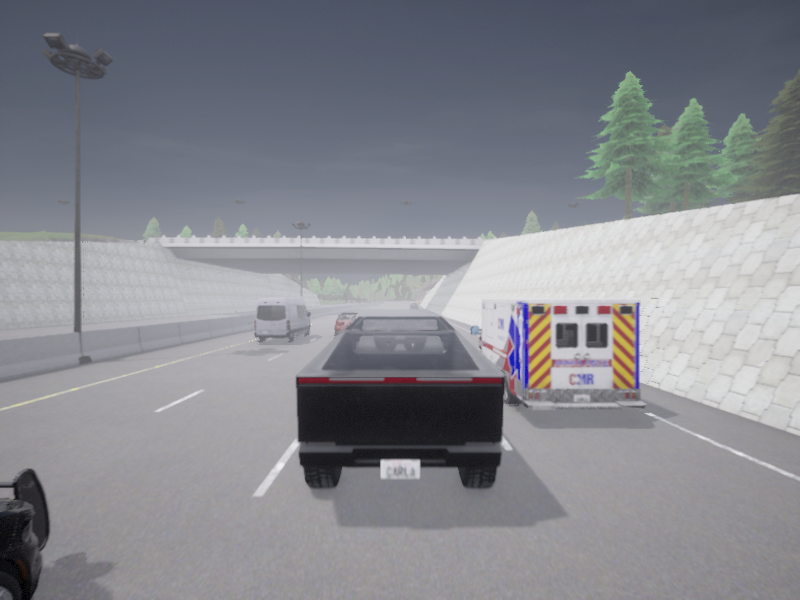vehicle: (296, 316, 504, 488), (470, 299, 646, 409), (0, 468, 49, 599), (254, 298, 310, 341), (334, 312, 359, 335), (409, 303, 417, 308)
